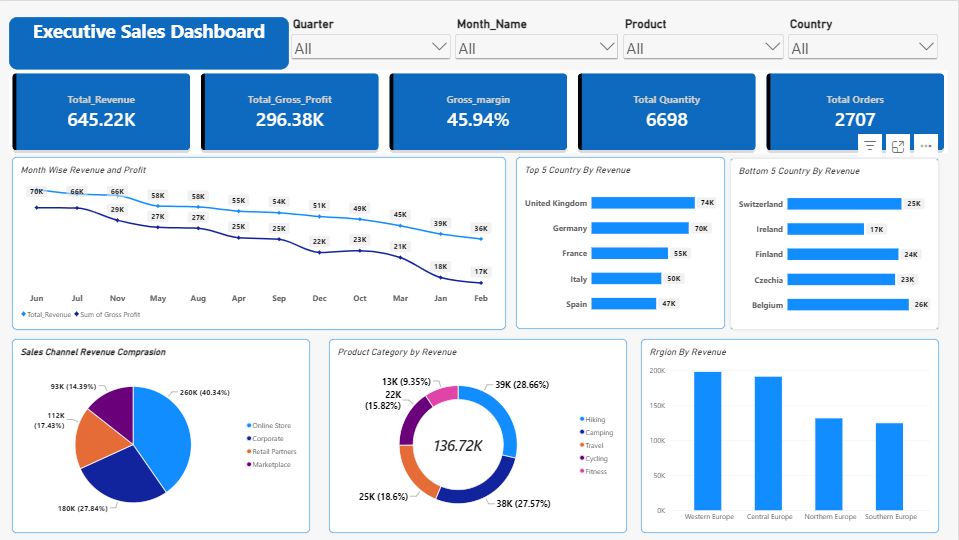

This screenshot's page, from the dashboard's own definition file:
{"tool":"powerbi","page":{"name":"Page 1","canvas":[1920,1080],"ordinal":0},"visuals":[{"type":"cardVisual","fields":{"Data":["All_measures.Total_Revenue","All_measures.Total_Gross_Profit","All_measures.Gross_margin","All_measures.Total Quantit","All_measures.Total Orders"]},"box":[22.5,137.5,1877.5,167.5],"z":0},{"type":"textbox","box":[22.5,32.5,560,105],"z":1000},{"type":"slicer","fields":{"Values":["Date_table.quarter"]},"box":[582.5,32.5,327.5,107.5],"z":2000},{"type":"slicer","fields":{"Values":["Date_table.Month_Name"]},"box":[910,32.5,335,90.5],"z":3000},{"type":"slicer","fields":{"Values":["SalesData.Product"]},"box":[1245,32.5,330,90.5],"z":4000},{"type":"slicer","fields":{"Values":["SalesData.Country"]},"box":[1575,32.5,307.5,90.5],"z":5000},{"type":"lineChart","title":"Month Wise Revenue and Profit","fields":{"Category":["Date_table.Month_Name"],"Y":["All_measures.Total_Revenue"],"Y2":["Sum(SalesData.Gross Profit)"]},"box":[27.5,312.5,987.5,345],"z":6000},{"type":"clusteredBarChart","title":"Top 5 Country By Revenue","fields":{"Y":["All_measures.Total_Revenue"],"Category":["SalesData.Country"]},"box":[1035,312.5,417.6,344.1],"z":7000},{"type":"clusteredBarChart","title":"Bottom 5 Country By Revenue","fields":{"Y":["All_measures.Total_Revenue"],"Category":["SalesData.Country"]},"box":[1464.9,313.4,417.6,344.1],"z":8000},{"type":"pieChart","title":"Sales Channel Revenue Comprasion","fields":{"Category":["SalesData.Sales Channel"],"Y":["All_measures.Total_Revenue"]},"box":[27.5,675,595.7,387.5],"z":9000},{"type":"donutChart","title":"Product Category by Revenue","fields":{"Y":["All_measures.Total_Gross_Profit"],"Category":["SalesData.Product Category"]},"box":[662.5,675,595.7,387.5],"z":10000},{"type":"clusteredColumnChart","title":"Rrgion By Revenue","fields":{"Category":["SalesData.Region"],"Y":["All_measures.Total_Revenue"]},"box":[1286.8,675,595.7,387.5],"z":11000}]}

Visuals, with their boxes in screenshot pixels (x1, y1, x2, y2), scaled from the page's 1920x1080 canvas onto the 959x540 screenshot:
cardVisual - All_measures.Total_Revenue x All_measures.Total_Gross_Profit: [x1=11, y1=69, x2=949, y2=152]
textbox: [x1=11, y1=16, x2=291, y2=69]
slicer - Date_table.quarter: [x1=291, y1=16, x2=455, y2=70]
slicer - Date_table.Month_Name: [x1=455, y1=16, x2=622, y2=62]
slicer - SalesData.Product: [x1=622, y1=16, x2=787, y2=62]
slicer - SalesData.Country: [x1=787, y1=16, x2=940, y2=62]
"Month Wise Revenue and Profit" lineChart: [x1=14, y1=156, x2=507, y2=329]
"Top 5 Country By Revenue" clusteredBarChart: [x1=517, y1=156, x2=726, y2=328]
"Bottom 5 Country By Revenue" clusteredBarChart: [x1=732, y1=157, x2=940, y2=329]
"Sales Channel Revenue Comprasion" pieChart: [x1=14, y1=338, x2=311, y2=531]
"Product Category by Revenue" donutChart: [x1=331, y1=338, x2=628, y2=531]
"Rrgion By Revenue" clusteredColumnChart: [x1=643, y1=338, x2=940, y2=531]
